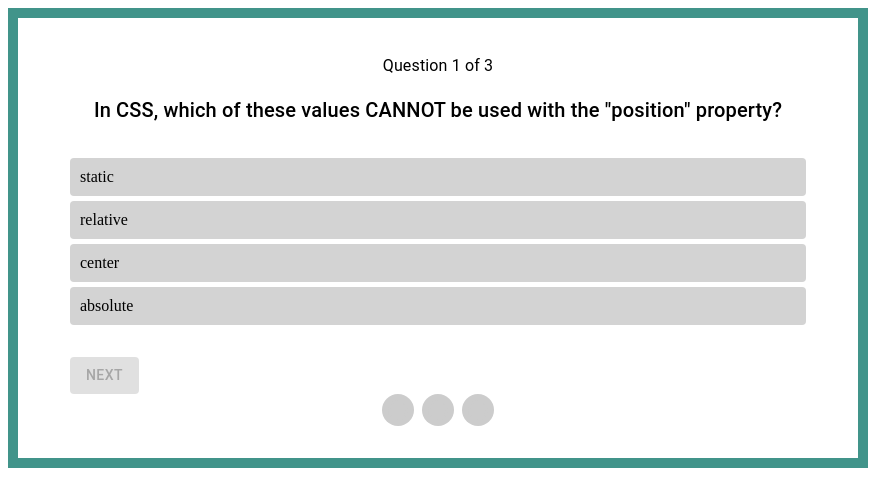
Test case: Quiz Component › navigates to the next question when Next is clicked
Click the text "center" at point(438, 263), box [70, 244, 806, 282]
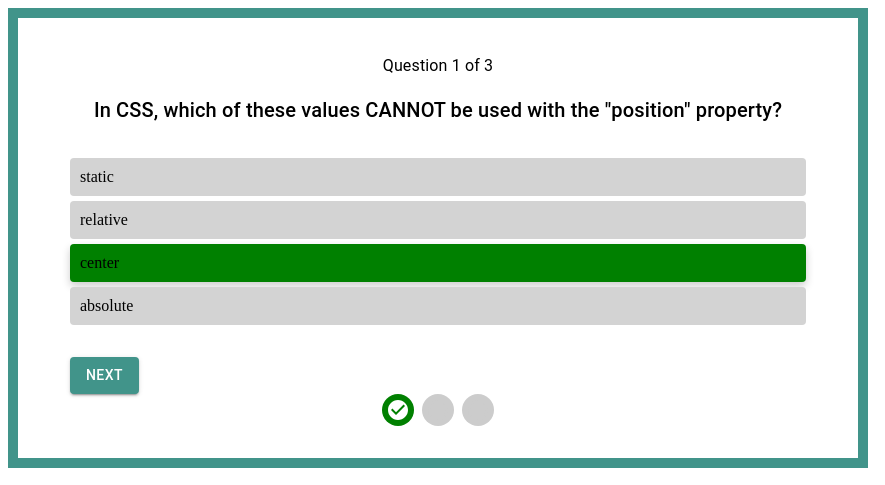
Click the button "Next" at point(104, 375), box [70, 357, 139, 394]
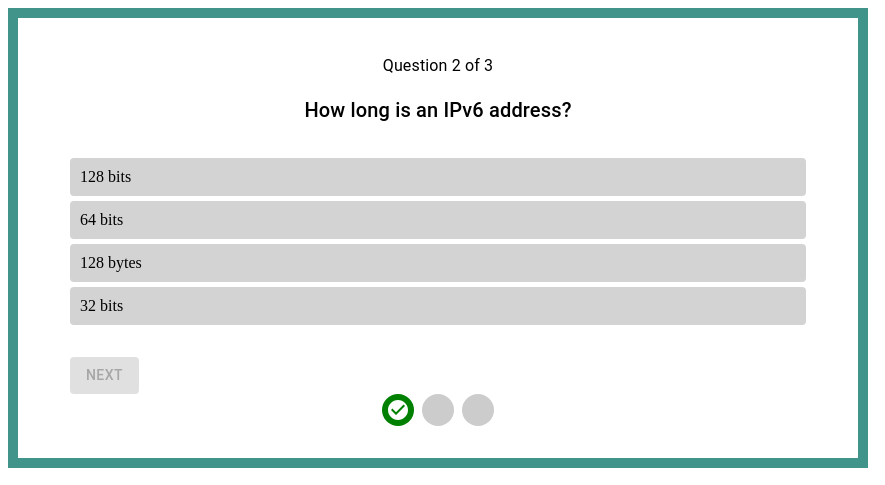
Check: the heading "How long is an IPv6 address?" is shown, box [304, 98, 572, 122]
